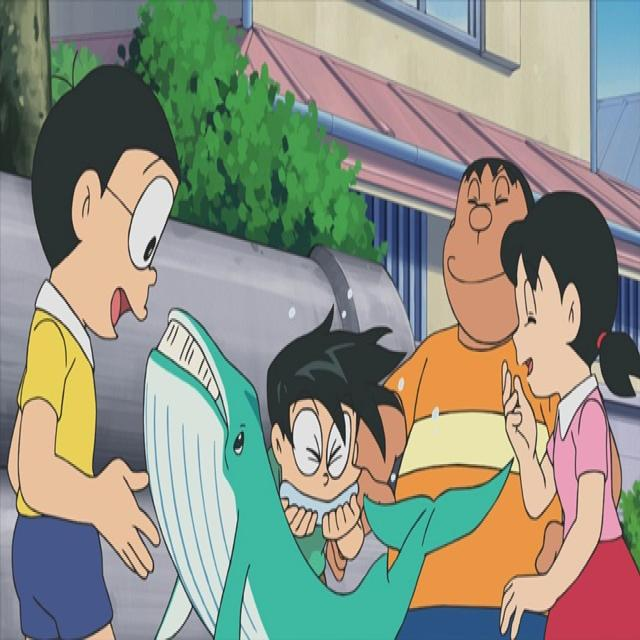jaian: (434, 132, 533, 359)
nobita: (28, 34, 183, 372)
shizuka: (505, 171, 630, 439)
suneo: (254, 299, 403, 535)
